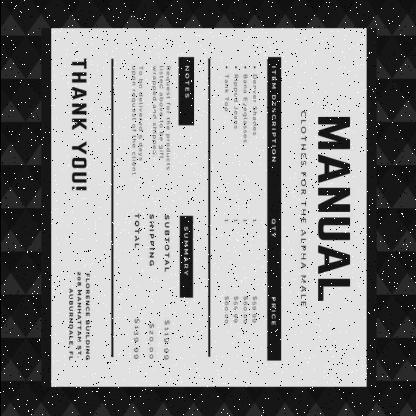Paragraph: (130, 212, 192, 362), (128, 57, 194, 178), (316, 115, 351, 302), (69, 56, 88, 194), (66, 270, 92, 364), (299, 109, 307, 308)
Table: (207, 57, 281, 361)
